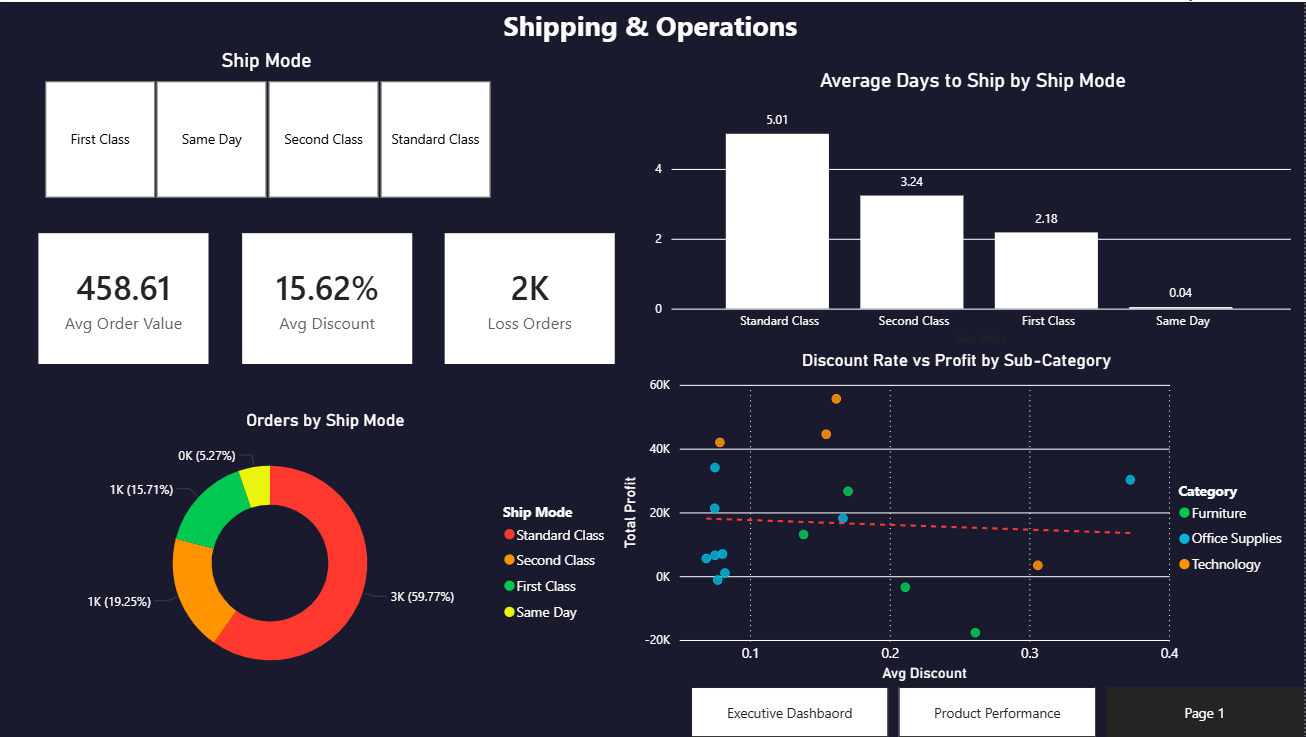

What the dashboard file says about the page in this screenshot:
{"tool":"powerbi","page":{"name":"Page 1","canvas":[1280,720],"ordinal":2},"visuals":[{"type":"textbox","box":[0,0,1280.3,91.7],"z":0},{"type":"clusteredColumnChart","title":"Average Days to Ship by Ship Mode","fields":{"Category":["Sample - Superstore.Ship Mode"],"Y":["Avg(Sample - Superstore.Days to Ship)"]},"box":[639.5,66,632.2,273.9],"z":1000},{"type":"scatterChart","title":"Discount Rate vs Profit by Sub-Category","fields":{"X":["_Measures.Avg Discount"],"Y":["_Measures.Total Profit"],"Category":["Sample - Superstore.Sub-Category"],"Series":["Sample - Superstore.Category"]},"box":[607.7,339.9,664,330.2],"z":2000},{"type":"donutChart","title":"Orders by Ship Mode","fields":{"Category":["Sample - Superstore.Ship Mode"],"Y":["_Measures.Total Orders"]},"box":[35.5,398.6,573.5,280],"z":3000},{"type":"cardVisual","fields":{"Data":["_Measures.Avg Order Value"]},"box":[36.7,221.3,176.1,138.2],"z":3001,"group":"g1"},{"type":"cardVisual","fields":{"Data":["_Measures.Avg Discount"]},"box":[235.4,221.3,176.1,138.2],"z":3002,"group":"g1"},{"type":"cardVisual","fields":{"Data":["_Measures.Loss Orders"]},"box":[434.1,221.3,176.1,138.2],"z":3003,"group":"g1"},{"type":"group","id":"g1","title":"Group 1","box":[36.7,221.3,573.5,138.2],"z":3004},{"type":"slicer","title":"Ship Mode","fields":{"Values":["Sample - Superstore.Ship Mode"]},"box":[22,46.5,485.5,151.6],"z":3005},{"type":"pageNavigator","box":[679.6,669.9,600.4,50.1],"z":3006}]}

Visuals, with their boxes in screenshot pixels (x1, y1, x2, y2), scaled from the page's 1280x720 canvas onto the 1306x737 screenshot:
textbox: [x1=0, y1=0, x2=1305, y2=94]
"Average Days to Ship by Ship Mode" clusteredColumnChart: [x1=652, y1=68, x2=1298, y2=348]
"Discount Rate vs Profit by Sub-Category" scatterChart: [x1=620, y1=348, x2=1298, y2=686]
"Orders by Ship Mode" donutChart: [x1=36, y1=408, x2=621, y2=695]
cardVisual - _Measures.Avg Order Value: [x1=37, y1=227, x2=217, y2=368]
cardVisual - _Measures.Avg Discount: [x1=240, y1=227, x2=420, y2=368]
cardVisual - _Measures.Loss Orders: [x1=443, y1=227, x2=623, y2=368]
"Group 1" group: [x1=37, y1=227, x2=623, y2=368]
"Ship Mode" slicer: [x1=22, y1=48, x2=518, y2=203]
pageNavigator: [x1=693, y1=686, x2=1305, y2=736]
